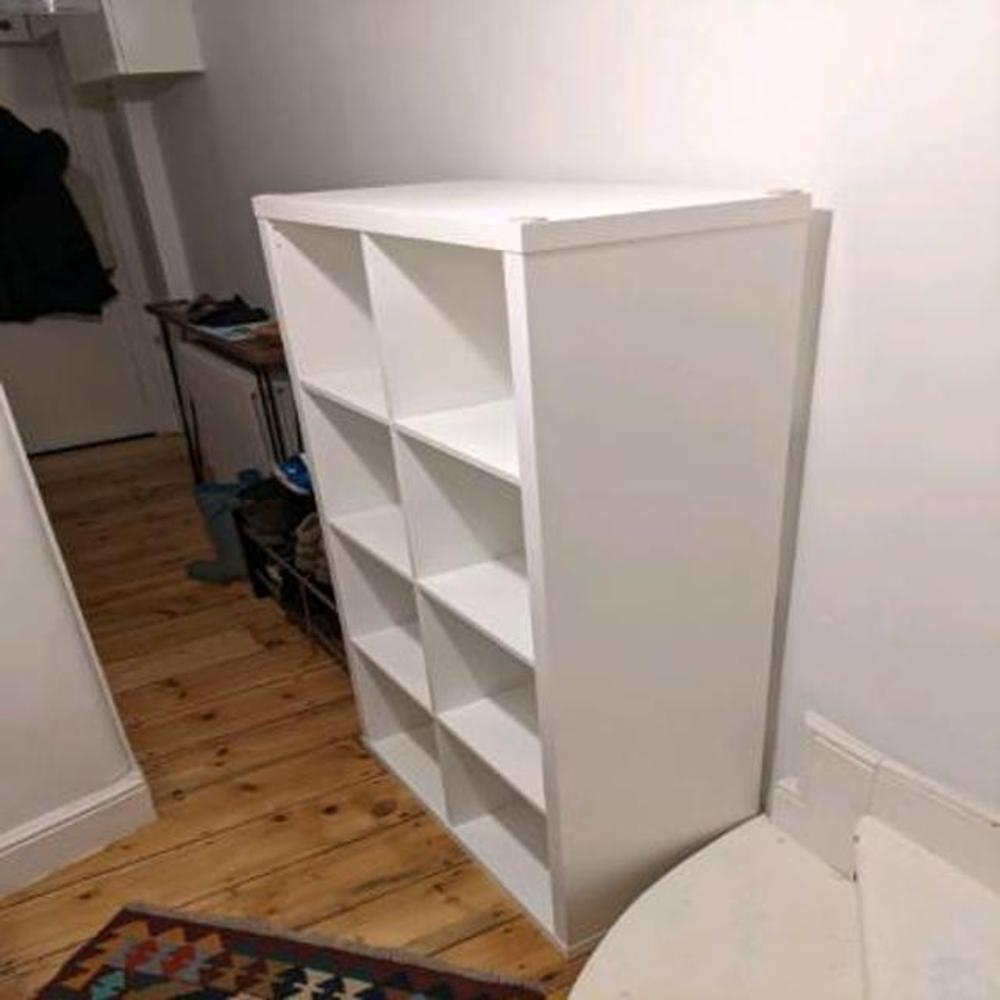lamp: (250, 175, 817, 966)
